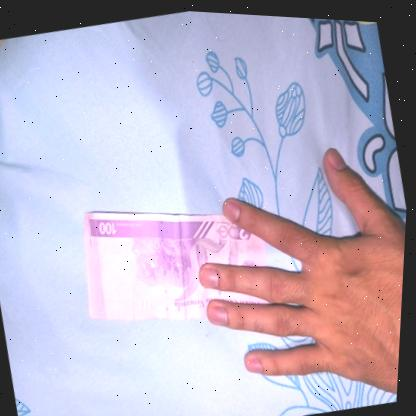vef_back: (70, 174, 284, 341)
